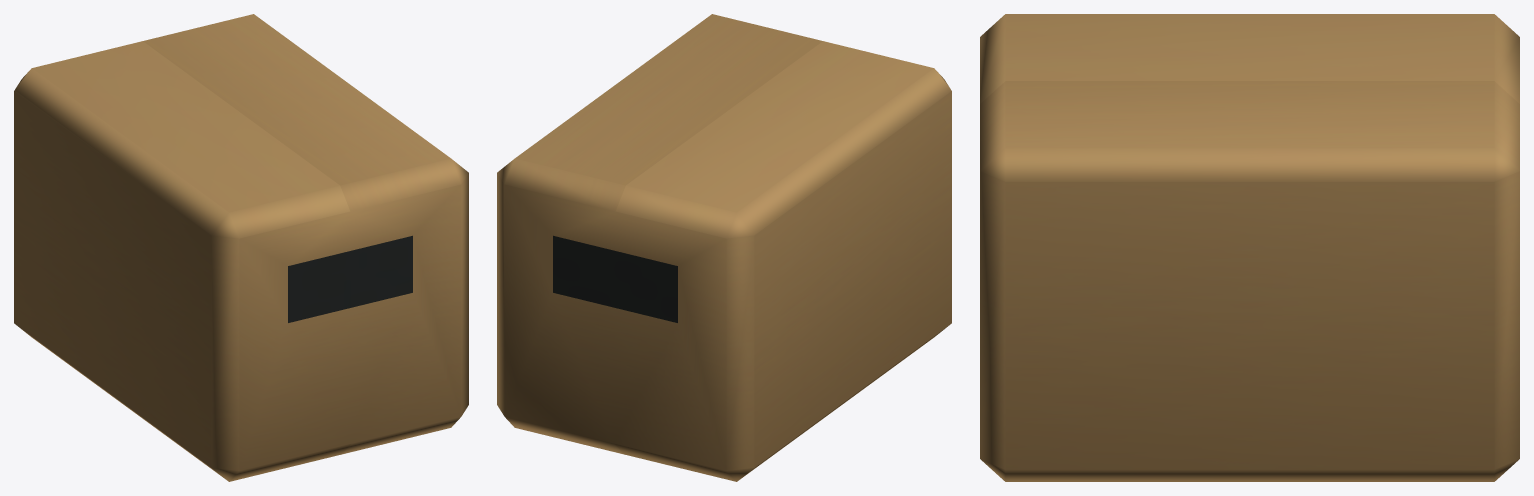
File: box_cardboard_rectangle_closed_handle.fbx
The picture shows the model from 3 angles, left to right: view 1: azimuth 30°, elevation 25°; view 2: azimuth 150°, elevation 25°; view 3: azimuth 270°, elevation 25°; orthographic projection. The views are drawn at different scales.
Visible parts, largest first — view 1: box_cardboard_rectangle_closed_handle; view 2: box_cardboard_rectangle_closed_handle; view 3: box_cardboard_rectangle_closed_handle.
Part boxes in pixels (x1=…): box_cardboard_rectangle_closed_handle: x1=14, y1=14, x2=468, y2=481; box_cardboard_rectangle_closed_handle: x1=497, y1=14, x2=951, y2=481; box_cardboard_rectangle_closed_handle: x1=980, y1=14, x2=1519, y2=481.
Size of the model in its own units: 53.69 by 53.69 by 78.69.
